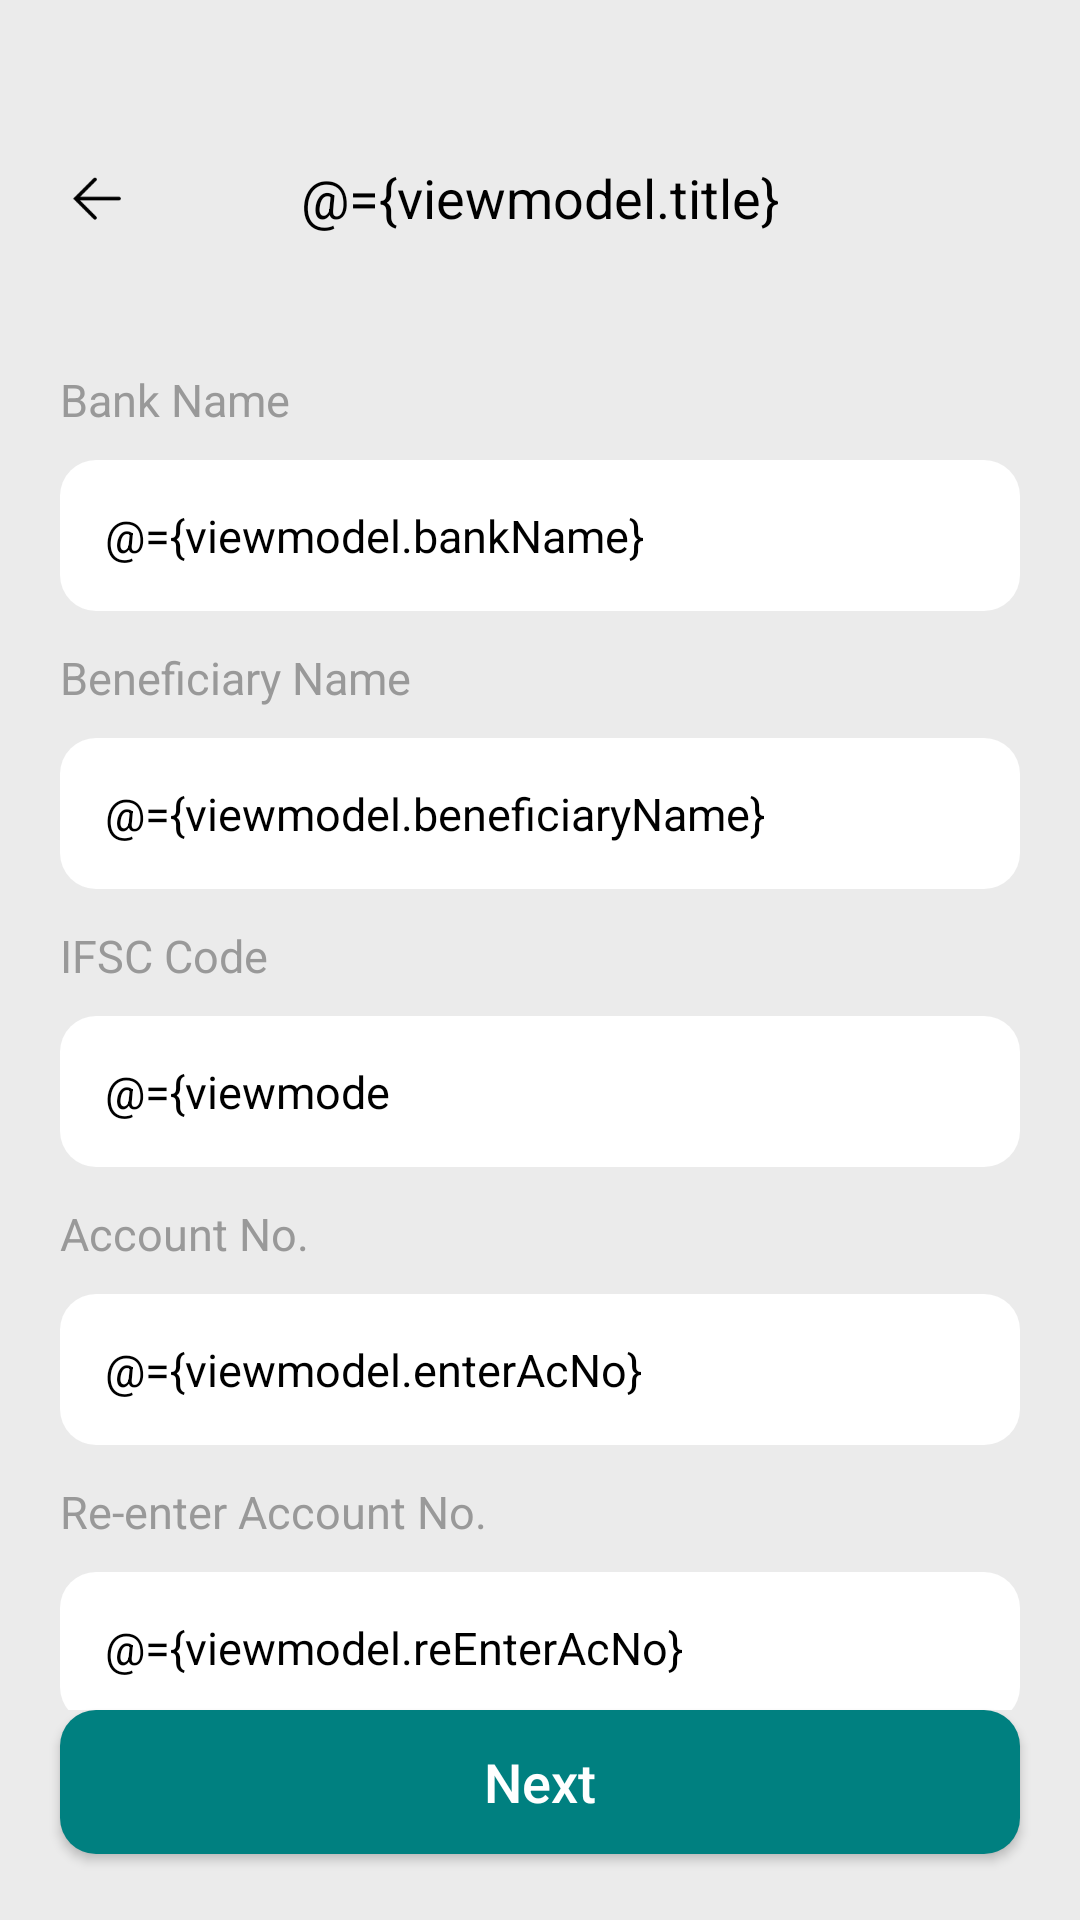

Screen size 1080*1920. Icon name, then its box in pixels as (x1, y1, x2, y2):
back: (73, 177, 121, 220)
